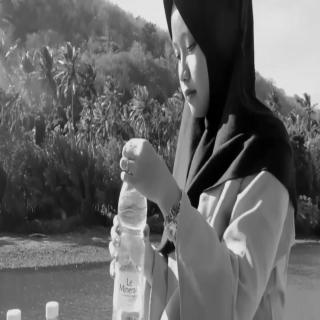plastic_bottles: (112, 156, 146, 320)
